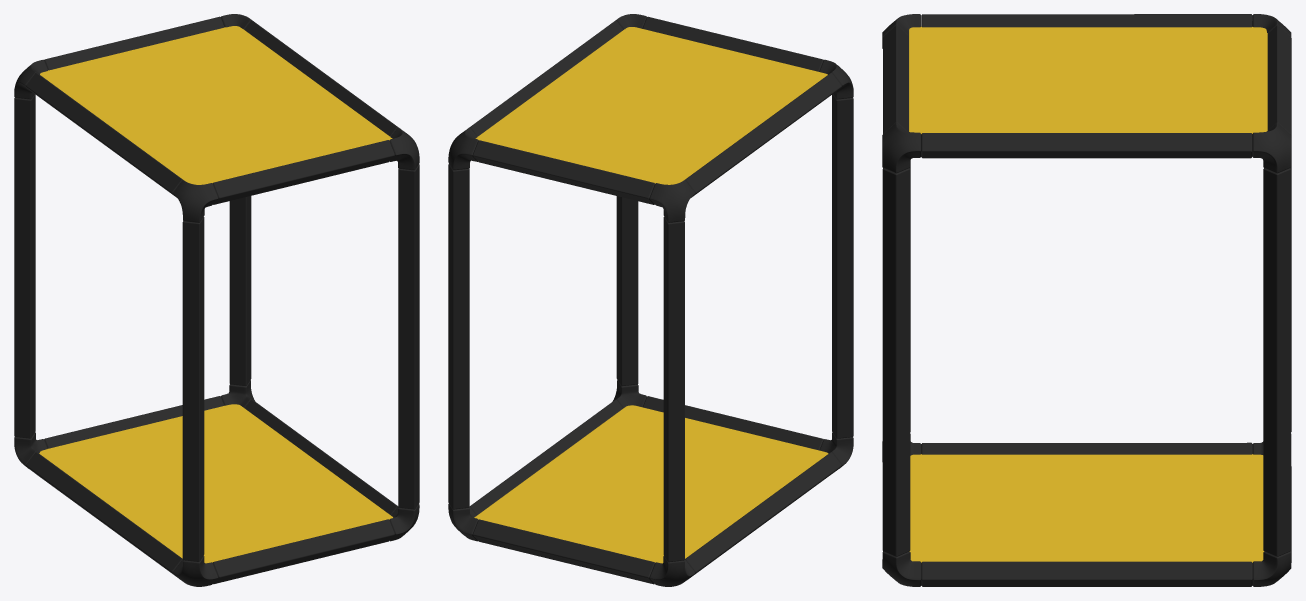
3 views of the same model, side by side, from view 1: azimuth 30°, elevation 25°; view 2: azimuth 150°, elevation 25°; view 3: azimuth 270°, elevation 25° (orthographic). The views are drawn at different scales.
Visible parts, largest first — view 1: 229x329x420; view 2: 229x329x420; view 3: 229x329x420.
Part boxes in pixels (x1=…): 229x329x420: x1=14, y1=14, x2=419, y2=586; 229x329x420: x1=448, y1=14, x2=853, y2=586; 229x329x420: x1=882, y1=14, x2=1291, y2=586.
Bounding box in the file's own units: 0.3068 × 0.4976 × 0.4062.
